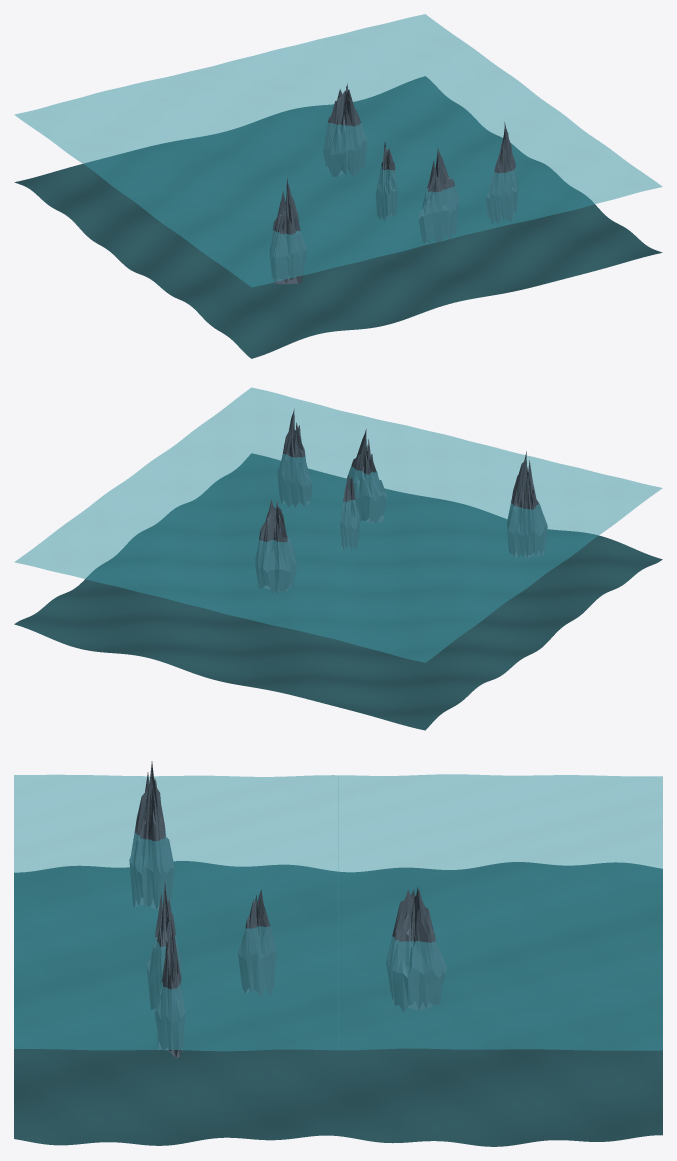
Rendered from water_tile_15.glb.
The picture shows the model from 3 angles, top to bottom: view 1: azimuth 30°, elevation 25°; view 2: azimuth 150°, elevation 25°; view 3: azimuth 270°, elevation 25°; orthographic projection. The views are drawn at different scales.
Visible parts, largest first — view 1: glacial water surface 15, submerged mineral riverbed.015, underwater worn boulder.053, underwater worn boulder.052, underwater worn boulder.049, underwater worn boulder.050, underwater worn boulder.051; view 2: glacial water surface 15, submerged mineral riverbed.015, underwater worn boulder.052, underwater worn boulder.053, underwater worn boulder.050, underwater worn boulder.049, underwater worn boulder.051; view 3: glacial water surface 15, submerged mineral riverbed.015, underwater worn boulder.053, underwater worn boulder.052, underwater worn boulder.051, underwater worn boulder.050, underwater worn boulder.049.
Part boxes in pixels (<box>): glacial water surface 15: <box>14,14,662,287</box>; submerged mineral riverbed.015: <box>14,76,662,358</box>; underwater worn boulder.053: <box>323,83,367,177</box>; underwater worn boulder.052: <box>269,177,307,285</box>; underwater worn boulder.049: <box>418,147,459,243</box>; underwater worn boulder.050: <box>485,122,518,223</box>; underwater worn boulder.051: <box>375,141,397,221</box>; glacial water surface 15: <box>14,387,662,662</box>; submerged mineral riverbed.015: <box>14,453,662,730</box>; underwater worn boulder.052: <box>506,451,547,558</box>; underwater worn boulder.053: <box>255,499,296,593</box>; underwater worn boulder.050: <box>277,408,312,507</box>; underwater worn boulder.049: <box>346,429,386,523</box>; underwater worn boulder.051: <box>340,474,359,551</box>; glacial water surface 15: <box>14,774,662,1051</box>; submerged mineral riverbed.015: <box>14,861,662,1146</box>; underwater worn boulder.053: <box>386,887,446,1012</box>; underwater worn boulder.052: <box>129,761,174,909</box>; underwater worn boulder.051: <box>238,890,276,996</box>; underwater worn boulder.050: <box>155,917,185,1058</box>; underwater worn boulder.049: <box>146,880,181,1009</box>.
Size of the model in its own units: 1 by 0.2904 by 1.
